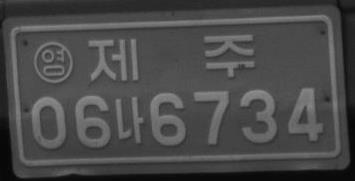0: (29, 94, 67, 150)
3: (239, 88, 279, 145)
4: (286, 86, 324, 142)
6: (149, 91, 187, 146), (74, 94, 112, 148)
7: (192, 89, 230, 144)
나: (113, 95, 145, 144)
영: (31, 40, 74, 84)
제주_D: (86, 32, 256, 84)
